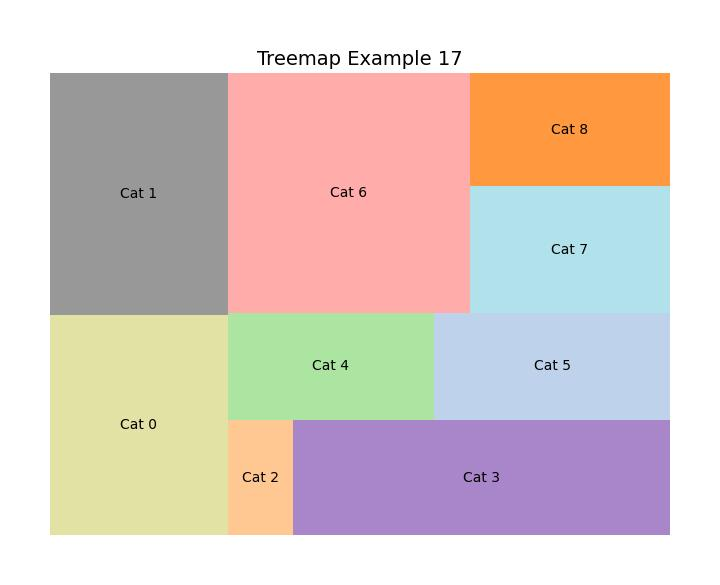rectangle: (227, 70, 472, 312), (294, 418, 672, 534), (51, 72, 228, 316), (51, 317, 229, 532), (472, 186, 671, 313), (434, 312, 671, 415), (470, 73, 672, 186), (231, 313, 433, 419), (229, 419, 293, 534)
